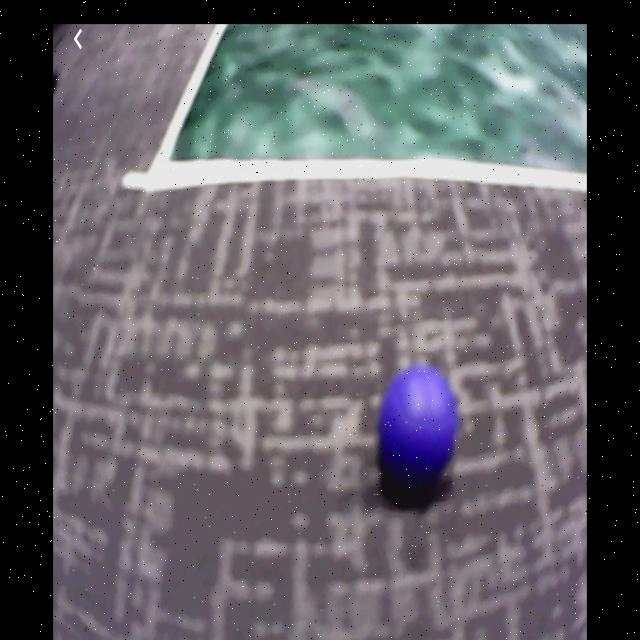ball: (380, 363, 459, 488)
